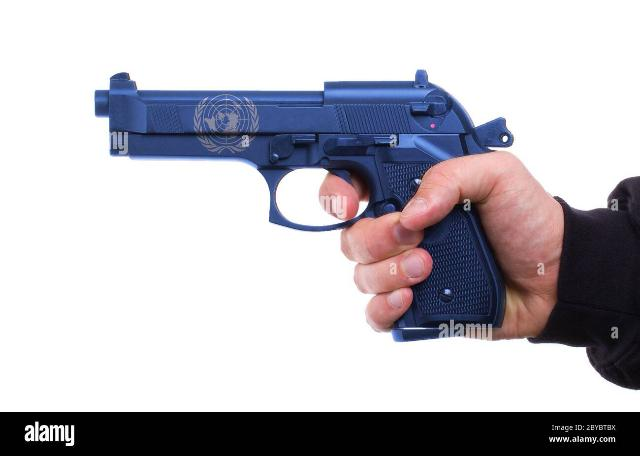handgun: (88, 65, 520, 353)
